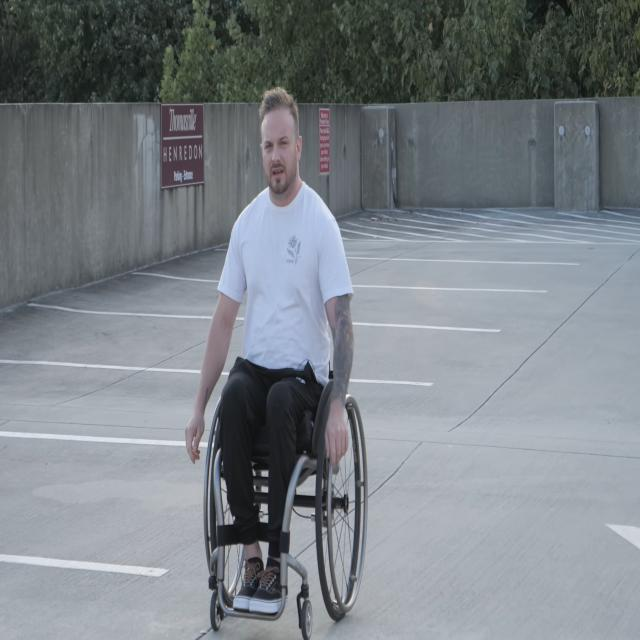wheelchairs: (201, 310, 371, 640)
